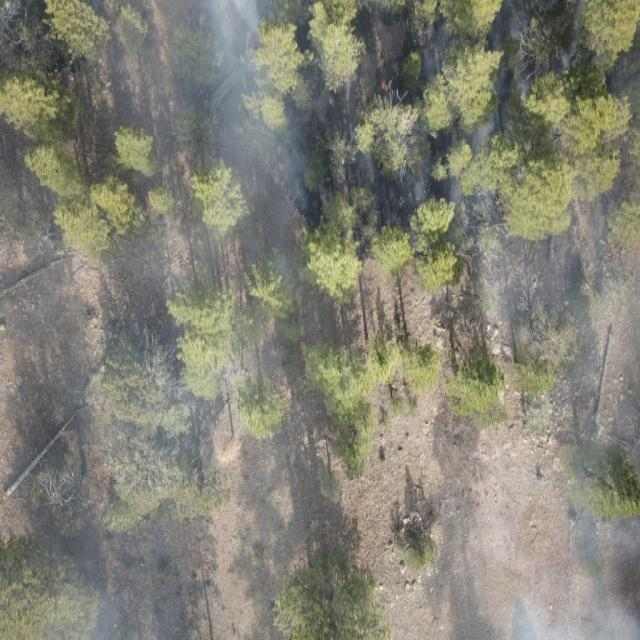fire: (378, 74, 389, 94)
smoke: (0, 0, 300, 640), (427, 0, 640, 640)
